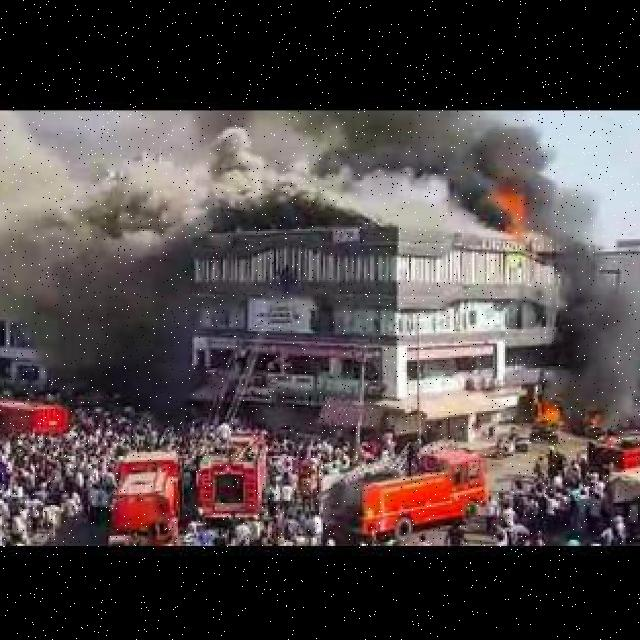fire: (491, 184, 544, 237), (542, 399, 572, 429)
smoke: (0, 108, 221, 358), (223, 110, 489, 246)
